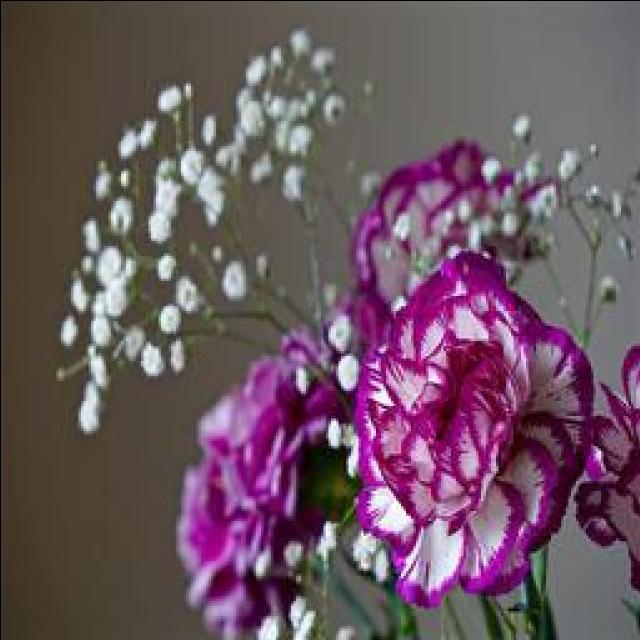carnation: (347, 254, 600, 601)
